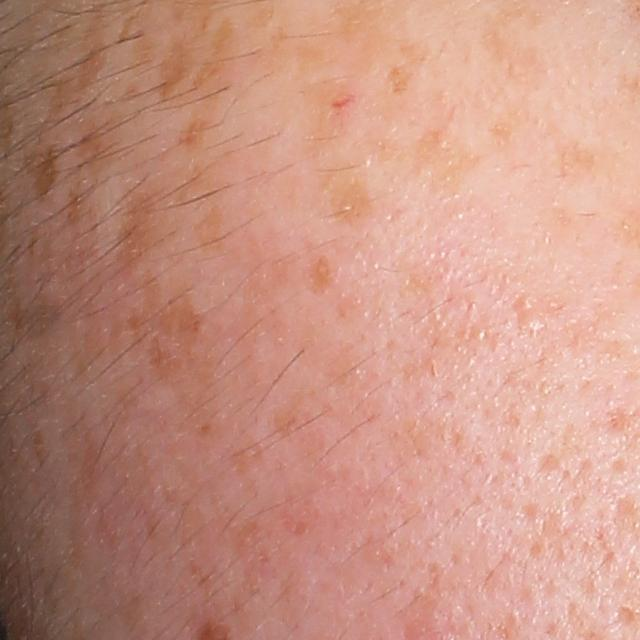melasma: (371, 99, 489, 203), (33, 1, 116, 143), (125, 268, 211, 389), (109, 179, 178, 287), (301, 72, 371, 154), (188, 11, 242, 102), (549, 121, 612, 187), (153, 30, 202, 112), (19, 131, 66, 216), (315, 156, 372, 226), (265, 374, 324, 441), (77, 111, 128, 187), (383, 34, 437, 101), (483, 95, 540, 152), (171, 97, 223, 151), (188, 202, 226, 259), (302, 249, 339, 301)
